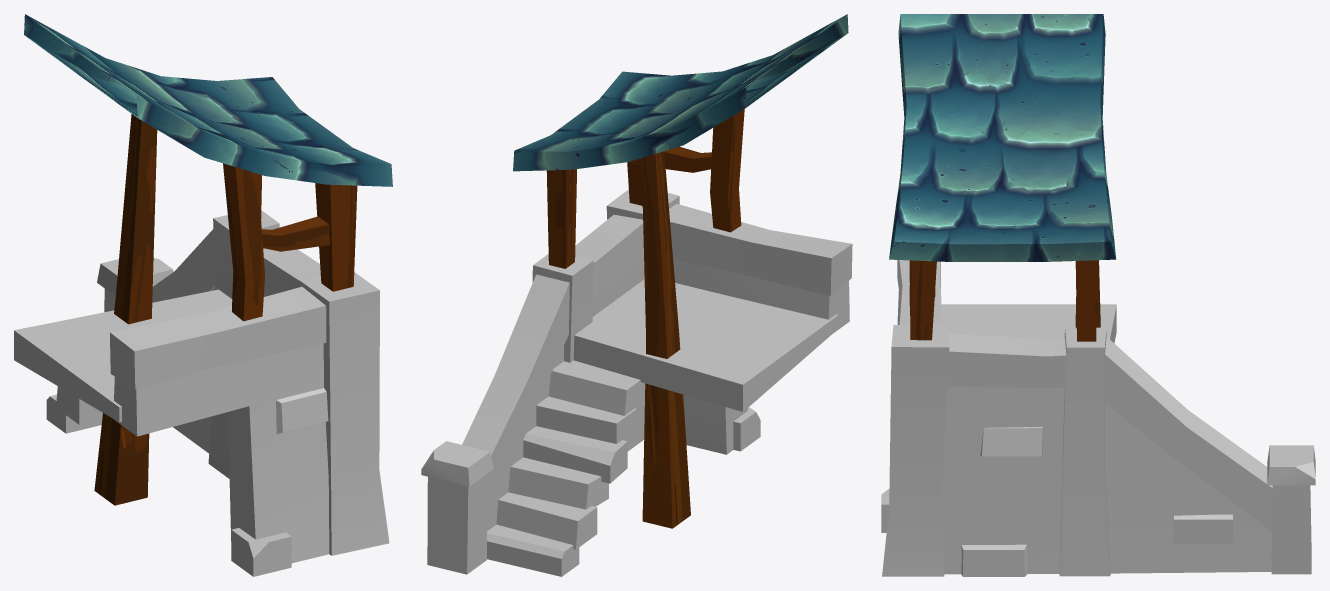
File: SM_BLD_stairs_v02_01.fbx
3 renders of one model, left to right at view 1: azimuth 30°, elevation 25°; view 2: azimuth 150°, elevation 25°; view 3: azimuth 270°, elevation 25°, orthographic. The views are drawn at different scales.
Parts seen in each view (by area): view 1: SM_BLD_stairs_v02_01; view 2: SM_BLD_stairs_v02_01; view 3: SM_BLD_stairs_v02_01.
Boxes of the visible parts, <box> form: SM_BLD_stairs_v02_01: <box>14,14,392,576</box>; SM_BLD_stairs_v02_01: <box>421,14,852,576</box>; SM_BLD_stairs_v02_01: <box>881,14,1315,576</box>.
Size of the model in its own units: 315 by 587 by 508.
